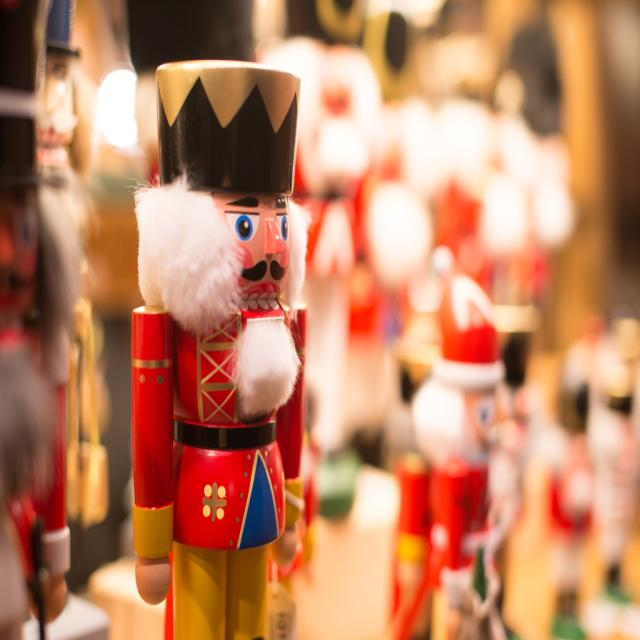Toy: (293, 37, 640, 640), (129, 56, 306, 640), (0, 0, 108, 640), (36, 0, 116, 595)
